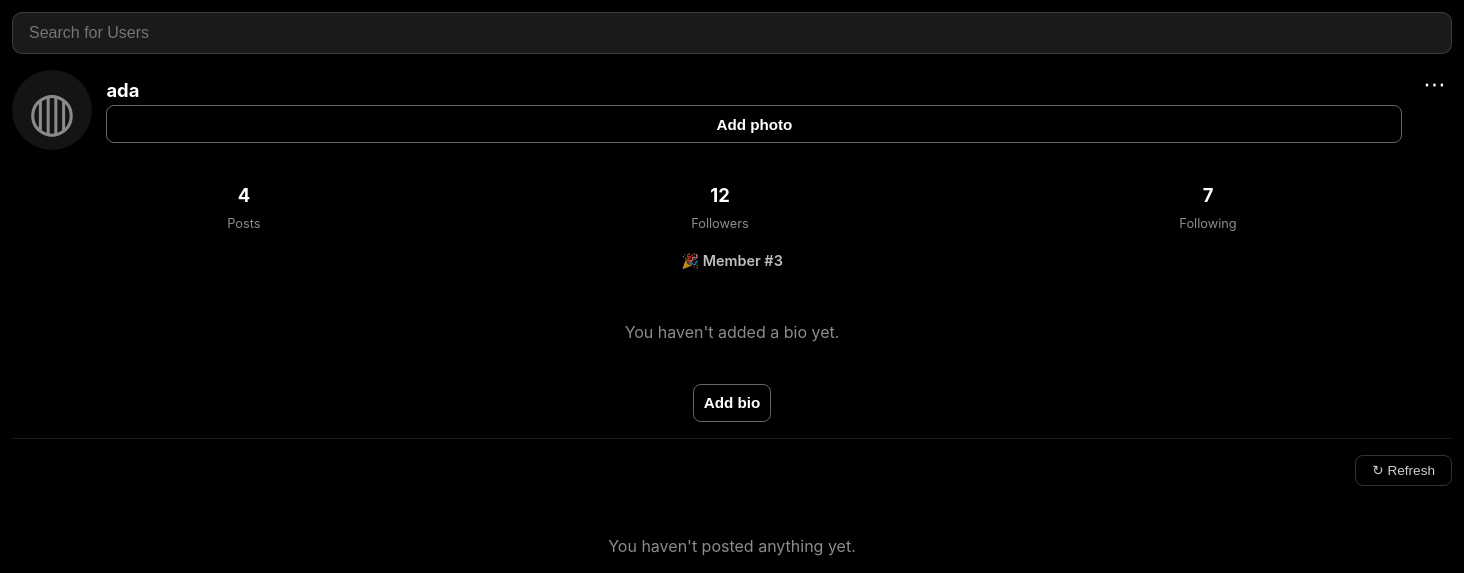
Test: does not show View all results when all search results fit in the first batch
In the search field labelled "Search for Users": (732, 33) [12,12,1452,54], type "bob"
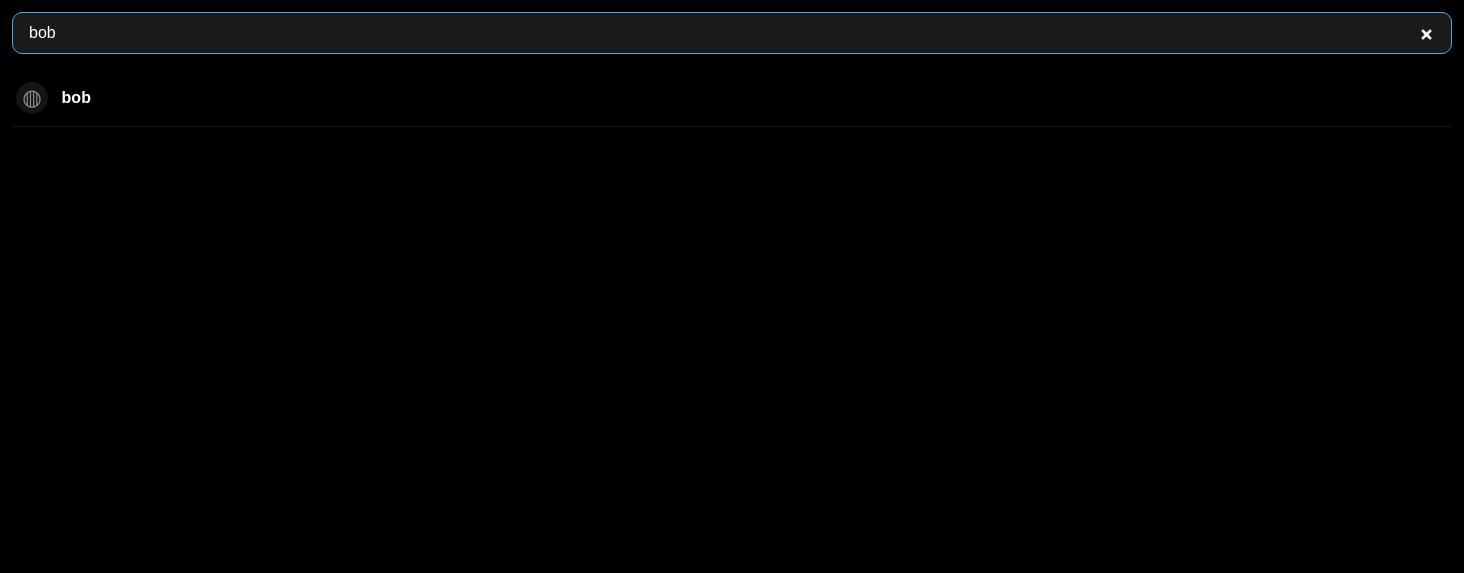
Now the text "bob" is shown, box [62,89,91,107]
